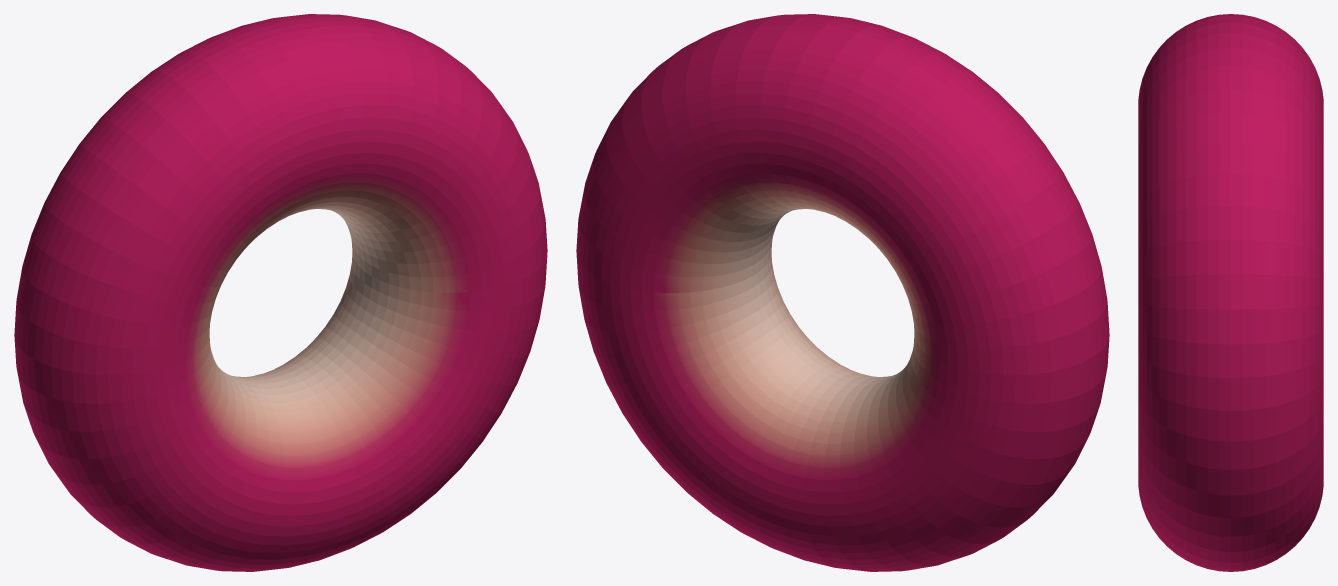
3 views of the same model, side by side, from view 1: azimuth 30°, elevation 25°; view 2: azimuth 150°, elevation 25°; view 3: azimuth 270°, elevation 25° (orthographic). The views are drawn at different scales.
Visible parts, largest first — view 1: world; view 2: world; view 3: world.
Boxes of the visible parts, bbox=[...] form: world: bbox=[14, 14, 547, 571]; world: bbox=[576, 14, 1109, 571]; world: bbox=[1138, 14, 1323, 571].
Bounding box in the file's own units: 30 × 29.94 × 9.98.
